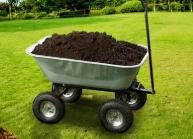BROUETTE: (17, 26, 166, 135)
